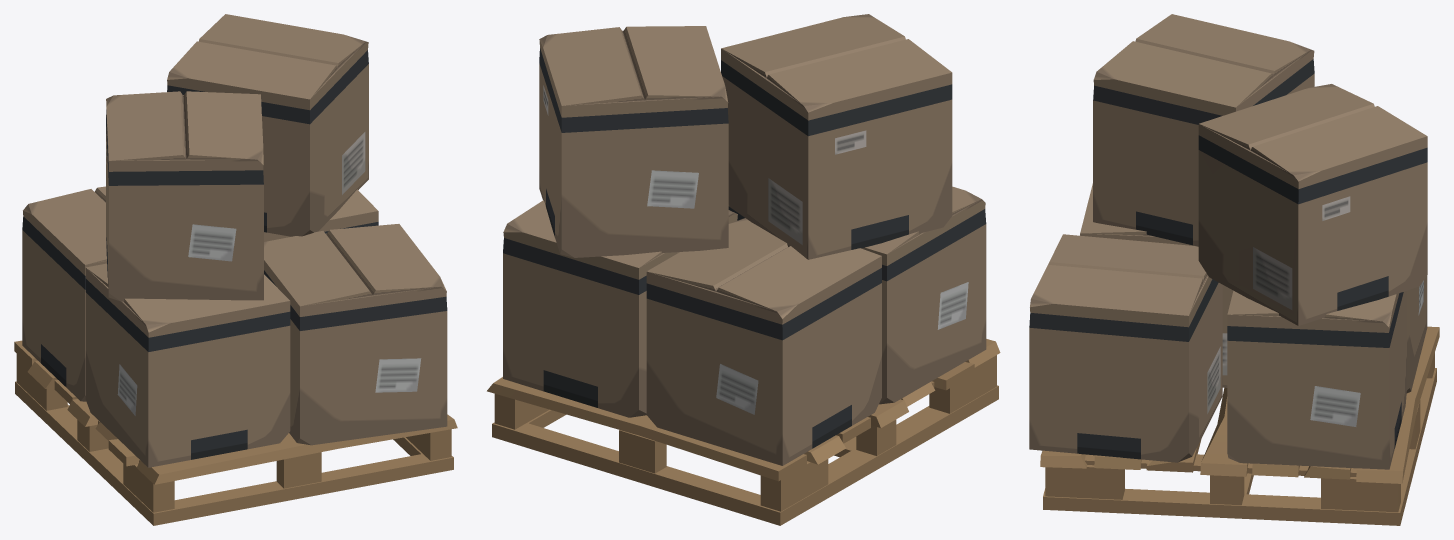
Rendered from cardboard_boxes.gltf.
3 views of the same model, side by side, from view 1: azimuth 30°, elevation 25°; view 2: azimuth 150°, elevation 25°; view 3: azimuth 270°, elevation 25° (orthographic). The views are drawn at different scales.
Visible parts, largest first — view 1: SM_Prop_CardboardBox_Stack_02 (2); view 2: SM_Prop_CardboardBox_Stack_02 (2); view 3: SM_Prop_CardboardBox_Stack_02 (2).
Boxes of the visible parts, left/top/right/bottom form: SM_Prop_CardboardBox_Stack_02 (2): left=14, top=14, right=457, bottom=525; SM_Prop_CardboardBox_Stack_02 (2): left=487, top=14, right=1000, bottom=525; SM_Prop_CardboardBox_Stack_02 (2): left=1029, top=14, right=1439, bottom=525.
Size of the model in its own units: 1.54 by 1.55 by 1.62.
1 material, 1 textured.
